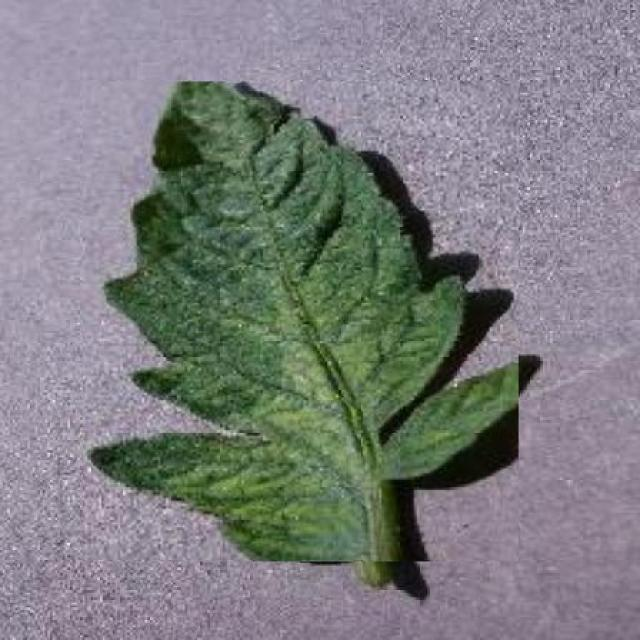Mosaic Virus: (83, 81, 518, 562)
